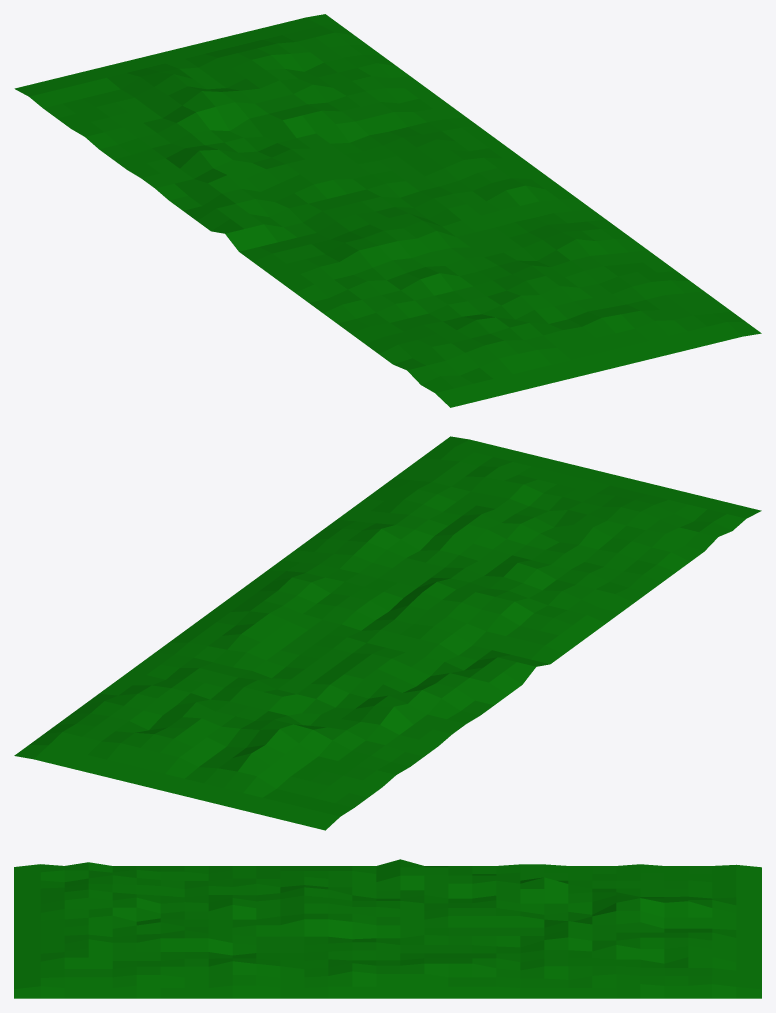
File: Grass.fbx
3 renders of one model, top to bottom at view 1: azimuth 30°, elevation 25°; view 2: azimuth 150°, elevation 25°; view 3: azimuth 270°, elevation 25°, orthographic. The views are drawn at different scales.
Visible parts, largest first — view 1: Plane; view 2: Plane; view 3: Plane.
Boxes of the visible parts, <box> form: Plane: <box>14,14,761,407</box>; Plane: <box>14,436,761,830</box>; Plane: <box>14,859,761,998</box>.
Size of the model in its own units: 3126 by 215 by 7587.
